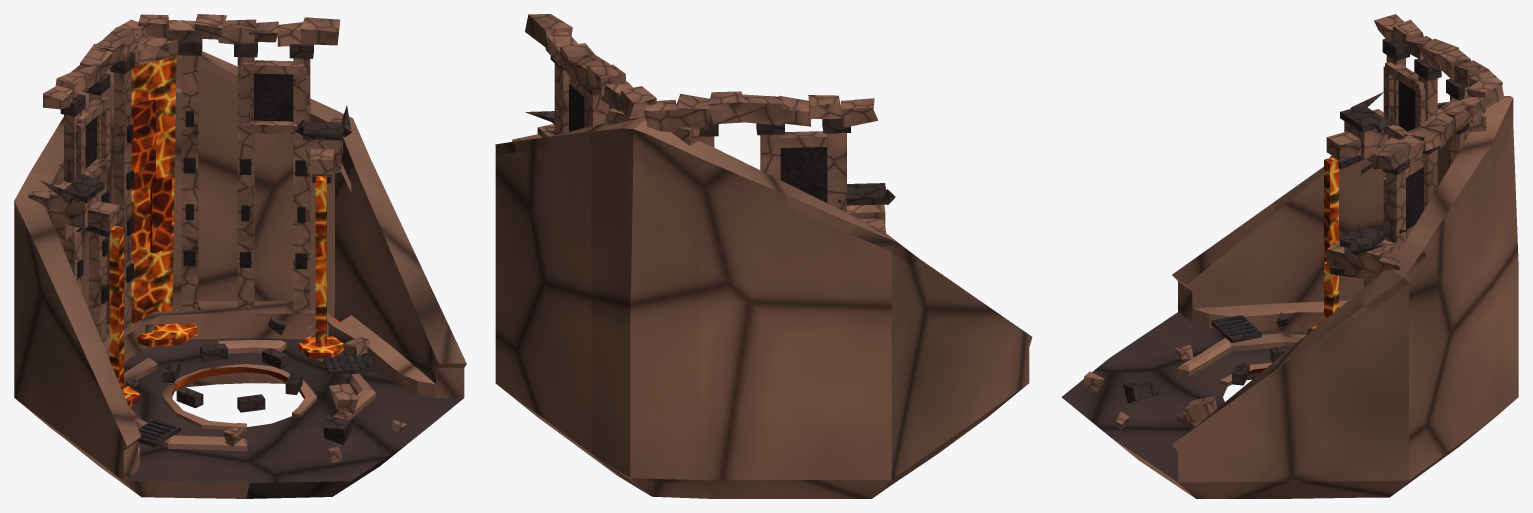
File: plaza3_textured.fbx
3 views of the same model, side by side, from view 1: azimuth 30°, elevation 25°; view 2: azimuth 150°, elevation 25°; view 3: azimuth 270°, elevation 25° (orthographic). The views are drawn at different scales.
Parts seen in each view (by area): view 1: plaza3_tex, kit_fall_core, kit_pillarR0, kit_pillarR1, kit_pillarL0, kit_pillarR2, kit_streamL, kit_fall_chunkA, kit_pillarL1, kit_streamR, kit_nicheR_back, kit_fall_chunkB (+32 smaller); view 2: plaza3_tex, kit_nicheL_back, kit_pillarL2, kit_rimL3, kit_rimL1, kit_rimL2, kit_pillarR2, kit_rimR6, kit_rimL0, kit_rimR0, kit_rimL6, kit_pillarL1 (+9 smaller); view 3: plaza3_tex, kit_pillarR2, kit_streamL, kit_dragonR_skull, kit_rimR6, kit_nicheR_back, kit_dragonL_snout, kit_nicheL_back, kit_dragonL_skull, kit_dragonL_brow, kit_rimR0, kit_streamR (+14 smaller).
Boxes of the visible parts, <box> form: plaza3_tex: <box>14,36,466,498</box>; kit_fall_core: <box>131,56,176,321</box>; kit_pillarR0: <box>181,55,198,310</box>; kit_pillarR1: <box>237,57,254,309</box>; kit_pillarL0: <box>114,69,131,327</box>; kit_pillarR2: <box>293,58,310,310</box>; kit_streamL: <box>109,225,123,393</box>; kit_fall_chunkA: <box>131,99,155,190</box>; kit_pillarL1: <box>89,90,106,343</box>; kit_streamR: <box>315,176,326,346</box>; kit_nicheR_back: <box>254,73,293,121</box>; kit_fall_chunkB: <box>150,175,171,253</box>; plaza3_tex: <box>495,118,1032,498</box>; kit_nicheL_back: <box>780,147,826,202</box>; kit_pillarL2: <box>826,133,846,212</box>; kit_rimL3: <box>738,94,783,125</box>; kit_rimL1: <box>676,94,711,129</box>; kit_rimL2: <box>709,91,744,124</box>; kit_pillarR2: <box>554,63,569,135</box>; kit_rimR6: <box>525,14,572,49</box>; kit_rimL0: <box>644,99,677,132</box>; kit_rimR0: <box>618,86,656,118</box>; kit_rimL6: <box>841,98,877,127</box>; kit_pillarL1: <box>760,134,780,179</box>; plaza3_tex: <box>1061,96,1518,498</box>; kit_pillarR2: <box>1386,169,1405,249</box>; kit_streamL: <box>1324,157,1338,262</box>; kit_dragonR_skull: <box>1344,239,1396,281</box>; kit_rimR6: <box>1371,137,1410,169</box>; kit_nicheR_back: <box>1406,167,1423,229</box>; kit_dragonL_snout: <box>1326,131,1360,160</box>; kit_nicheL_back: <box>1398,81,1415,131</box>; kit_dragonL_skull: <box>1344,109,1387,158</box>; kit_dragonL_brow: <box>1340,106,1383,132</box>; kit_rimR0: <box>1466,78,1504,109</box>; kit_streamR: <box>1324,261,1338,320</box>.
Size of the model in its own units: 1.69 by 1.61 by 1.92.
6 materials, 6 textured.
